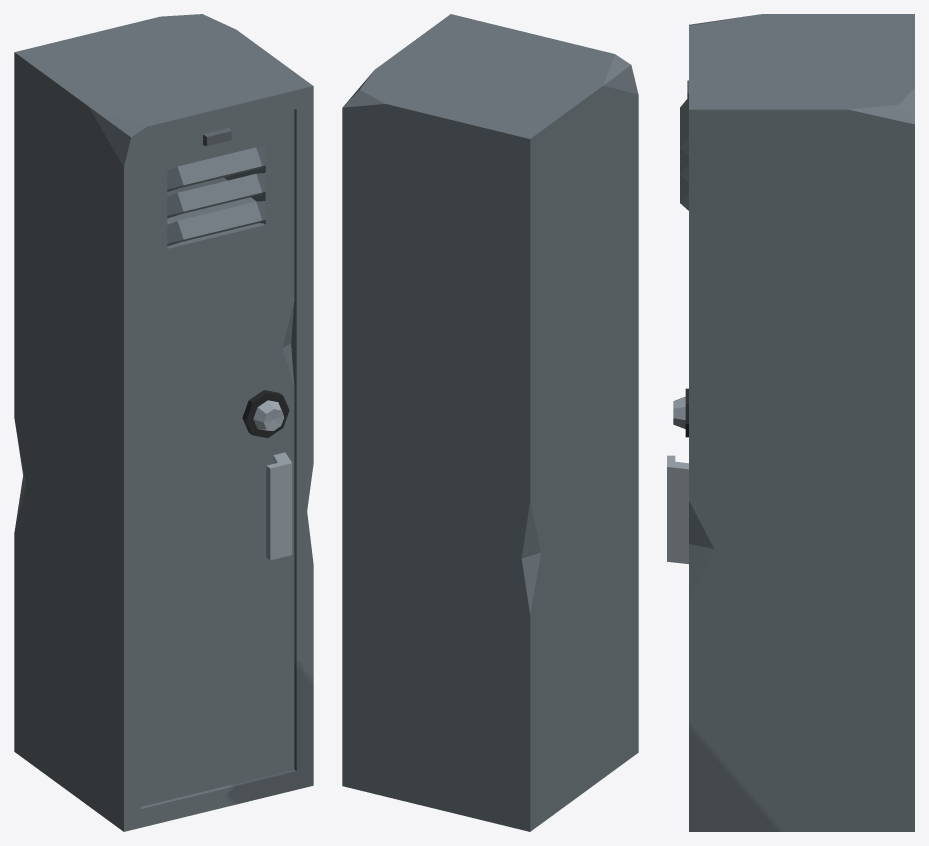
The model's file is SM_Prop_Locker_01.fbx.
3 views of the same model, side by side, from view 1: azimuth 30°, elevation 25°; view 2: azimuth 150°, elevation 25°; view 3: azimuth 270°, elevation 25° (orthographic). The views are drawn at different scales.
Visible parts, largest first — view 1: SM_Prop_Locker_01; view 2: SM_Prop_Locker_01; view 3: SM_Prop_Locker_01.
Part boxes in pixels (x1,y1,x2,y2): SM_Prop_Locker_01: [14, 14, 313, 831]; SM_Prop_Locker_01: [342, 14, 638, 831]; SM_Prop_Locker_01: [667, 14, 914, 831].
Bounding box in the file's own units: 41.39 × 146 × 45.4.
1 material, 1 textured.
